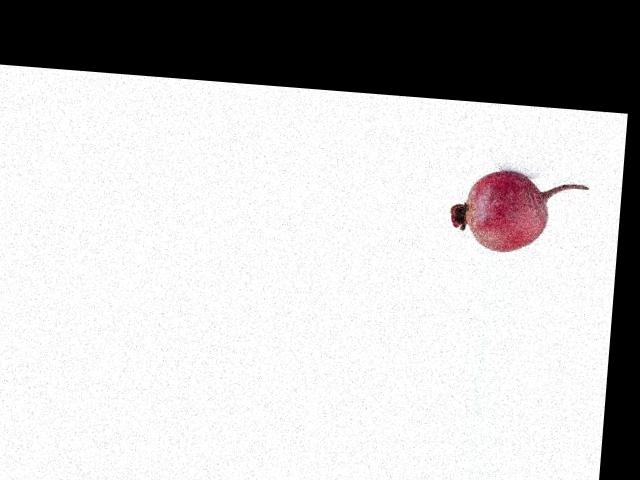beet: (449, 166, 589, 257)
